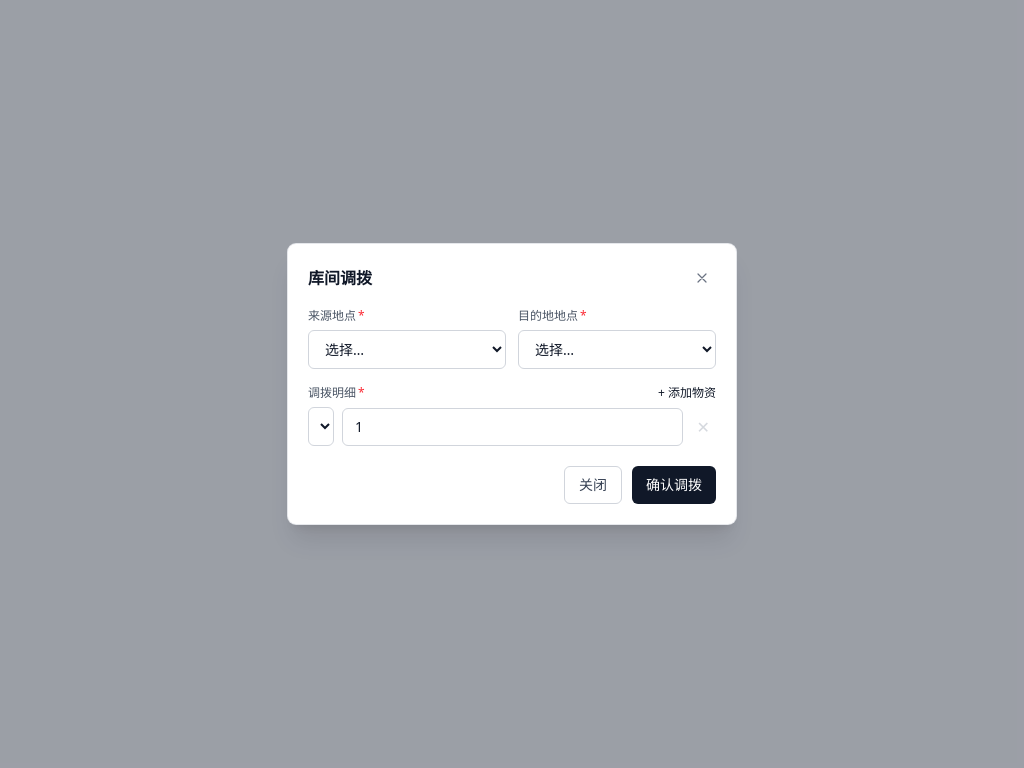
Scenario: TransferForm 调拨表单（Sprint 7 §16/§54） › 来源与目的地相同 → 本地校验错误
Select "总仓" in the dropdown named "调拨来源地点" at point(407, 350), box [308, 330, 506, 369]
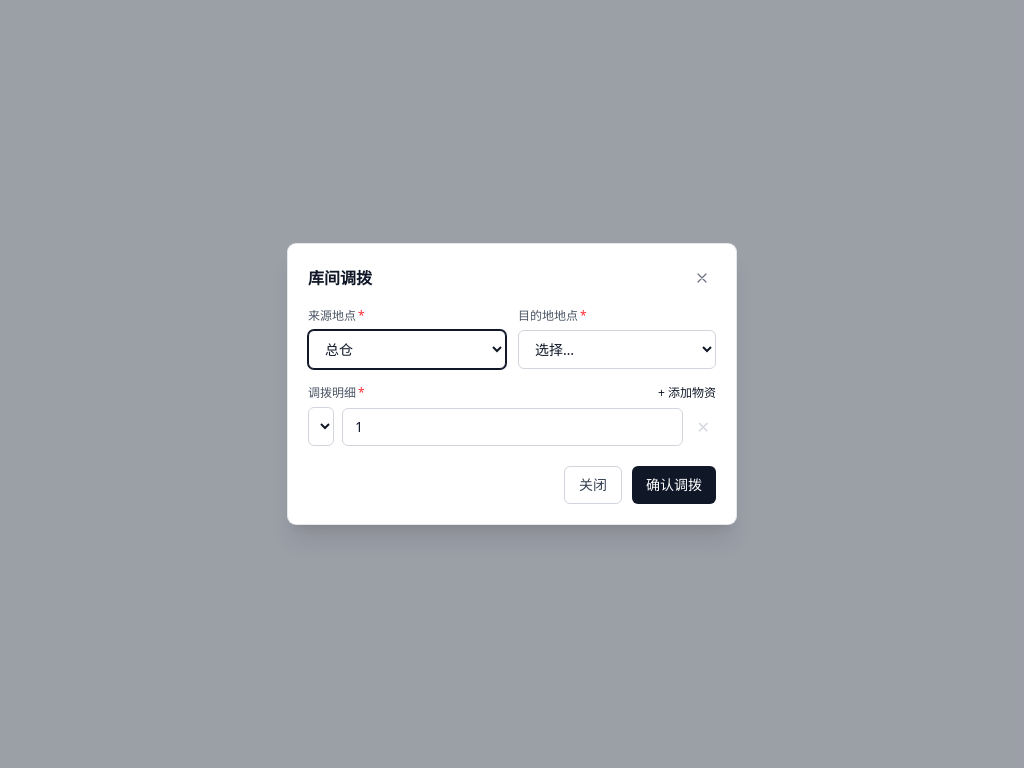
Select "总仓" in the dropdown named "调拨目的地地点" at point(617, 350), box [518, 330, 716, 369]
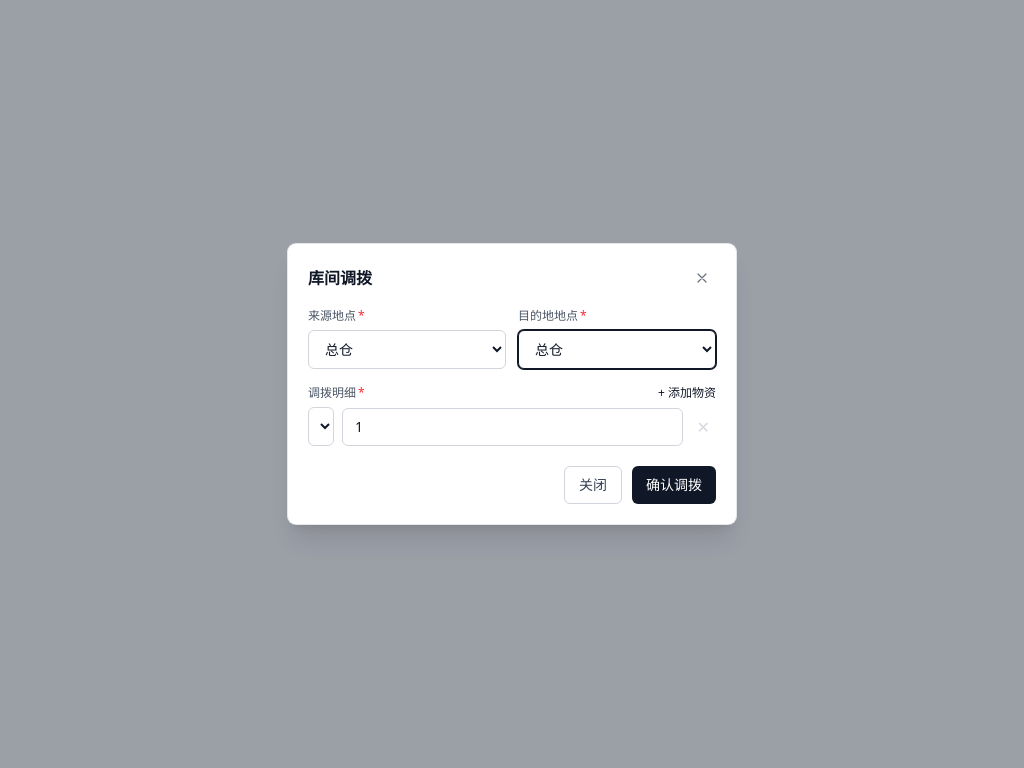
Click the button "确认调拨" at point(674, 485), box [632, 466, 716, 504]
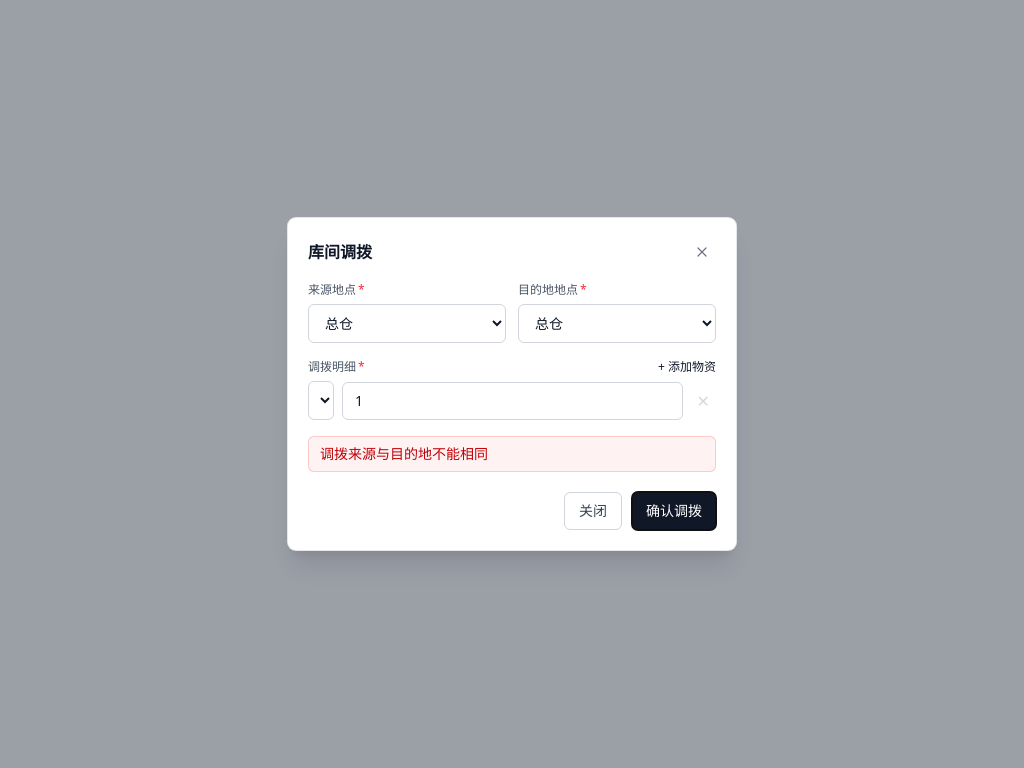
Check: the message reads "调拨来源与目的地不能相同", box [320, 444, 488, 463]
